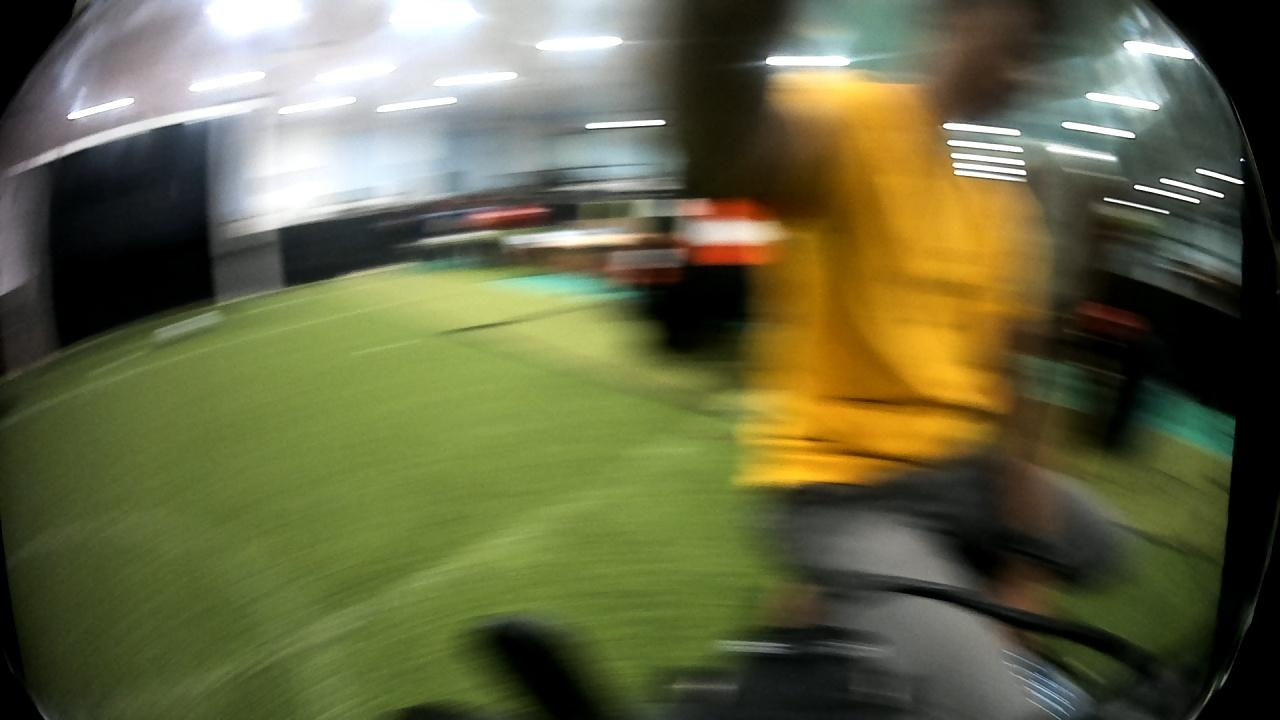ball: (142, 307, 228, 350)
